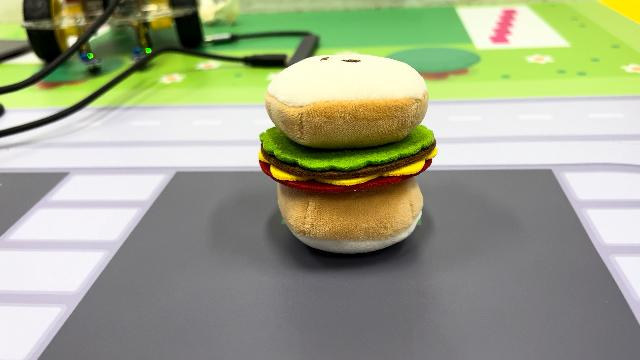sandwich: (256, 50, 439, 255)
